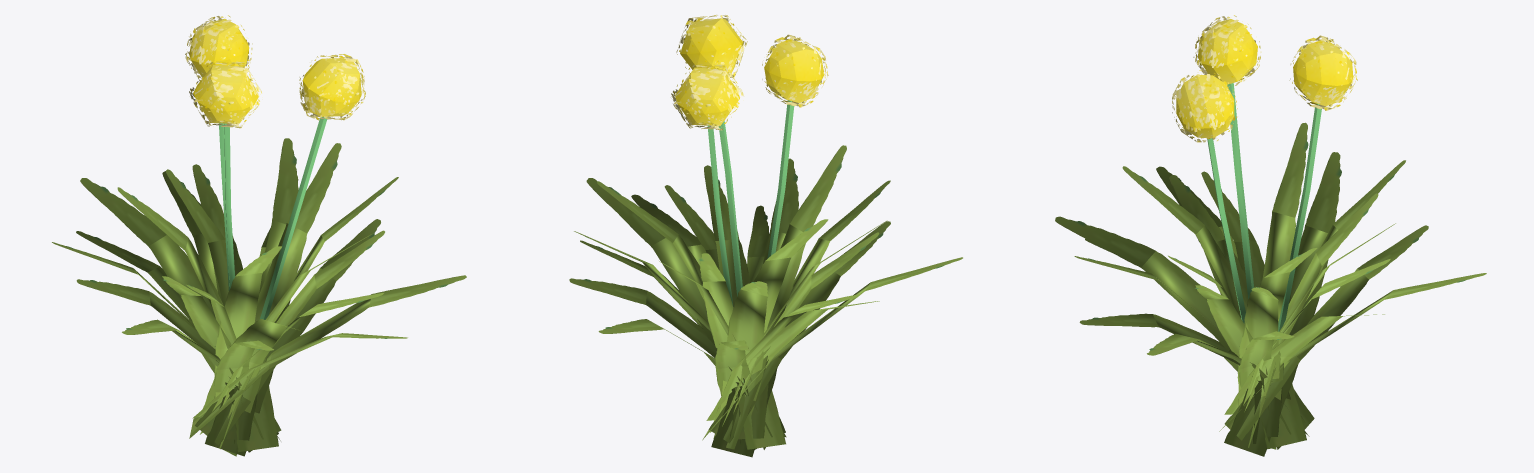
Rendered from BillyButton_Hand.fbx.
3 views of the same model, side by side, from view 1: azimuth 30°, elevation 25°; view 2: azimuth 150°, elevation 25°; view 3: azimuth 270°, elevation 25° (orthographic).
Visible parts, largest first — view 1: Leaves (3), Leaves (1), Leaves (2); view 2: Leaves (2), Leaves (1), Leaves (3); view 3: Leaves (2), Leaves (3), Leaves (1).
Boxes of the visible parts, bbox=[...] form: Leaves (3): bbox=[117, 54, 466, 456]; Leaves (1): bbox=[76, 61, 384, 456]; Leaves (2): bbox=[52, 15, 398, 452]; Leaves (2): bbox=[569, 64, 879, 449]; Leaves (1): bbox=[597, 34, 962, 457]; Leaves (3): bbox=[574, 14, 890, 449]; Leaves (2): bbox=[1122, 35, 1486, 456]; Leaves (3): bbox=[1055, 70, 1390, 449]; Leaves (1): bbox=[1074, 15, 1405, 449].
Size of the model in its own units: 1.51 by 1.44 by 1.61.
